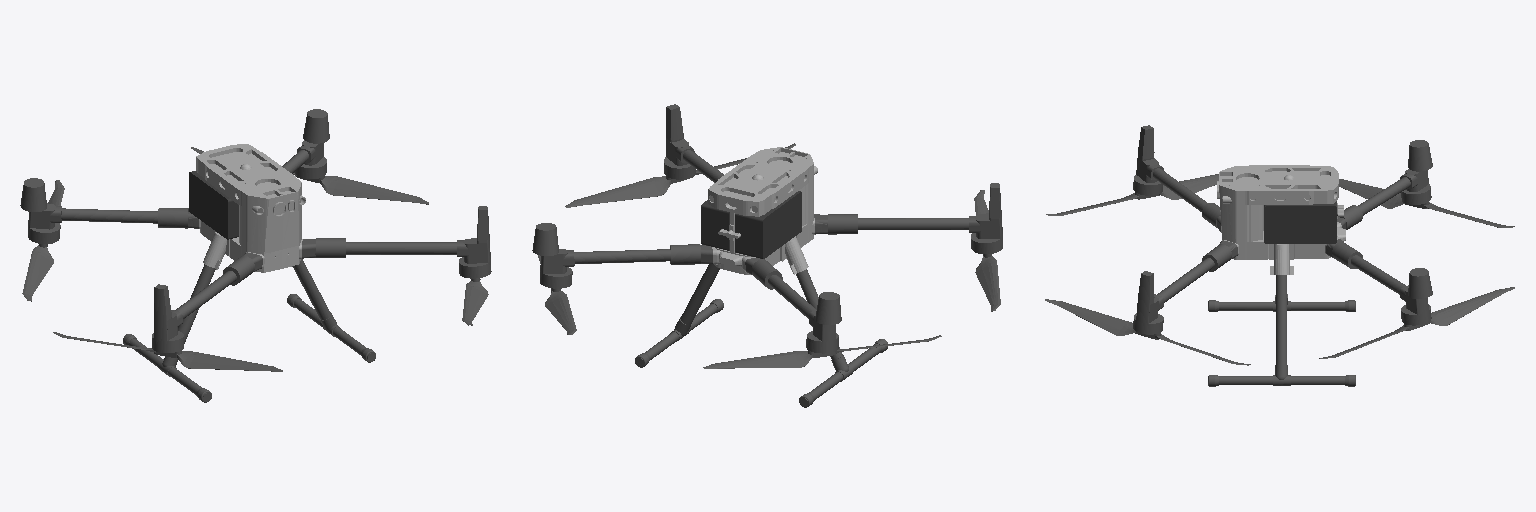
The robot description file, URDF, robot "m350_v1":
<?xml version="1.0" ?>
<!-- Generated using onshape-to-robot -->
<!-- Onshape https://cad.onshape.com/documents/c248f19a0f0b3ba59d40bf96/w/d44af1218bde81f59010375a/e/d2acb386f891232a817fe8a2 -->
<robot name="m350_v1">
  <!-- Link body -->
  <link name="body">
    <inertial>
      <origin xyz="0.00257267 -0.0169103 0.0625409" rpy="0 0 0"/>
      <mass value="3.87918"/>
      <inertia ixx="0.0326721" ixy="5.47272e-08" ixz="-4.24269e-08" iyy="0.0175823" iyz="0.000884552" izz="0.0256938"/>
    </inertial>
    <!-- Part body -->
    <visual>
      <origin xyz="0.00257275 -0.00204705 0.00687887" rpy="0 -0 -2.1684e-19"/>
      <geometry>
        <mesh filename="assets/body.stl"/>
      </geometry>
      <material name="body_material">
        <color rgba="0.701961 0.701961 0.701961 1"/>
      </material>
    </visual>
    <collision>
      <origin xyz="0.00257275 -0.00204705 0.00687887" rpy="0 -0 -2.1684e-19"/>
      <geometry>
        <mesh filename="assets/body.stl"/>
      </geometry>
    </collision>
  </link>
  <!-- Frame front_camera (dummy link + fixed joint) -->
  <link name="front_camera">
    <origin xyz="0 0 0" rpy="0 -0 0"/>
    <inertial>
      <origin xyz="0 0 0" rpy="0 0 0"/>
      <mass value="1e-9"/>
      <inertia ixx="0" ixy="0" ixz="0" iyy="0" iyz="0" izz="0"/>
    </inertial>
  </link>
  <joint name="front_camera_frame" type="fixed">
    <origin xyz="-0.00742147 -0.135524 0.124536" rpy="1.5708 -0 -2.1684e-19"/>
    <parent link="body"/>
    <child link="front_camera"/>
    <axis xyz="0 0 0"/>
  </joint>
  <!-- Link batt_left -->
  <link name="batt_left">
    <inertial>
      <origin xyz="0.0197759 2.64258e-06 -0.0823849" rpy="0 0 0"/>
      <mass value="0.528299"/>
      <inertia ixx="0.00152426" ixy="3.3895e-10" ixz="7.28017e-09" iyy="0.00135282" iyz="1.72826e-08" izz="0.000563146"/>
    </inertial>
    <!-- Part batt_left -->
    <visual>
      <origin xyz="-0.0200738 0.0657542 -0.133261" rpy="1.5708 -2.1225e-12 0"/>
      <geometry>
        <mesh filename="assets/batt_left.stl"/>
      </geometry>
      <material name="batt_left_material">
        <color rgba="0.301961 0.301961 0.301961 1"/>
      </material>
    </visual>
    <collision>
      <origin xyz="-0.0200738 0.0657542 -0.133261" rpy="1.5708 -2.1225e-12 0"/>
      <geometry>
        <mesh filename="assets/batt_left.stl"/>
      </geometry>
    </collision>
  </link>
  <!-- Joint from body to batt_left -->
  <joint name="batt_left" type="fixed">
    <origin xyz="0.0226466 0.131214 0.0726331" rpy="-1.5708 5.87747e-39 -2.1225e-12"/>
    <parent link="body"/>
    <child link="batt_left"/>
    <axis xyz="0 0 1"/>
    <limit effort="10" velocity="10"/>
  </joint>
  <!-- Link batt_right -->
  <link name="batt_right">
    <inertial>
      <origin xyz="-0.0197759 3.25297e-06 -0.0823836" rpy="0 0 0"/>
      <mass value="0.528323"/>
      <inertia ixx="0.00152437" ixy="3.39444e-10" ixz="-7.21661e-09" iyy="0.00135292" iyz="-2.46836e-08" izz="0.000563176"/>
    </inertial>
    <!-- Part batt_right -->
    <visual>
      <origin xyz="0.0200738 0.0657542 -0.133261" rpy="1.5708 -2.1225e-12 0"/>
      <geometry>
        <mesh filename="assets/batt_right.stl"/>
      </geometry>
      <material name="batt_right_material">
        <color rgba="0.301961 0.301961 0.301961 1"/>
      </material>
    </visual>
    <collision>
      <origin xyz="0.0200738 0.0657542 -0.133261" rpy="1.5708 -2.1225e-12 0"/>
      <geometry>
        <mesh filename="assets/batt_right.stl"/>
      </geometry>
    </collision>
  </link>
  <!-- Joint from body to batt_right -->
  <joint name="batt_right" type="fixed">
    <origin xyz="-0.017501 0.131214 0.0726331" rpy="-1.5708 -0 -2.1225e-12"/>
    <parent link="body"/>
    <child link="batt_right"/>
    <axis xyz="0 0 1"/>
    <limit effort="10" velocity="10"/>
  </joint>
  <!-- Link prop_arm_fl -->
  <link name="prop_arm_fl">
    <inertial>
      <origin xyz="0.00406926 -0.00417922 -0.214397" rpy="0 0 0"/>
      <mass value="0.592953"/>
      <inertia ixx="0.0111979" ixy="1.56084e-05" ixz="0.000143294" iyy="0.0109891" iyz="-0.000371307" izz="0.000312746"/>
    </inertial>
    <!-- Part prop_arm_fl -->
    <visual>
      <origin xyz="0.061459 0.00207034 0.104294" rpy="1.56766 1.03205 4.22639e-19"/>
      <geometry>
        <mesh filename="assets/prop_arm_fl.stl"/>
      </geometry>
      <material name="prop_arm_fl_material">
        <color rgba="0.4 0.4 0.4 1"/>
      </material>
    </visual>
    <collision>
      <origin xyz="0.061459 0.00207034 0.104294" rpy="1.56766 1.03205 4.22639e-19"/>
      <geometry>
        <mesh filename="assets/prop_arm_fl.stl"/>
      </geometry>
    </collision>
  </link>
  <!-- Link prop_fl -->
  <link name="prop_fl">
    <inertial>
      <origin xyz="-3.34435e-08 -4.4977e-08 -0.0180893" rpy="0 0 0"/>
      <mass value="0.120786"/>
      <inertia ixx="0.000277984" ixy="-0.00015915" ixz="-5.68271e-11" iyy="0.000145598" iyz="-8.79131e-11" izz="0.00039223"/>
    </inertial>
    <!-- Part prop_fl -->
    <visual>
      <origin xyz="-0.362002 0.281368 0.0563482" rpy="0.0715887 0.0188751 4.3376e-19"/>
      <geometry>
        <mesh filename="assets/prop_fl.stl"/>
      </geometry>
      <material name="prop_fl_material">
        <color rgba="0.4 0.4 0.4 1"/>
      </material>
    </visual>
    <collision>
      <origin xyz="-0.362002 0.281368 0.0563482" rpy="0.0715887 0.0188751 4.3376e-19"/>
      <geometry>
        <mesh filename="assets/prop_fl.stl"/>
      </geometry>
    </collision>
  </link>
  <!-- Joint from prop_arm_fl to prop_fl -->
  <joint name="prop_FL" type="revolute">
    <origin xyz="0.00368875 0.0304324 -0.353141" rpy="1.46468 1.03035 -0.0365883"/>
    <parent link="prop_arm_fl"/>
    <child link="prop_fl"/>
    <axis xyz="0 0 1"/>
    <limit effort="10" velocity="10" lower="-3.141592653589793" upper="3.141592653589793"/>
  </joint>
  <!-- Joint from body to prop_arm_fl -->
  <joint name="arm_FL" type="fixed">
    <origin xyz="0.0605622 -0.108315 0.0086168" rpy="-1.56919 -0.00269164 1.03205"/>
    <parent link="body"/>
    <child link="prop_arm_fl"/>
    <axis xyz="0 0 1"/>
    <limit effort="10" velocity="10"/>
  </joint>
  <!-- Link prop_arm_fr -->
  <link name="prop_arm_fr">
    <inertial>
      <origin xyz="-0.00406893 -0.00417892 -0.214396" rpy="0 0 0"/>
      <mass value="0.592955"/>
      <inertia ixx="0.011198" ixy="-1.56077e-05" ixz="-0.000143289" iyy="0.0109892" iyz="-0.000371302" izz="0.000312747"/>
    </inertial>
    <!-- Part prop_arm_fr -->
    <visual>
      <origin xyz="-0.0614586 0.00207064 0.104294" rpy="1.56766 -1.03205 -4.22639e-19"/>
      <geometry>
        <mesh filename="assets/prop_arm_fr.stl"/>
      </geometry>
      <material name="prop_arm_fr_material">
        <color rgba="0.4 0.4 0.4 1"/>
      </material>
    </visual>
    <collision>
      <origin xyz="-0.0614586 0.00207064 0.104294" rpy="1.56766 -1.03205 -4.22639e-19"/>
      <geometry>
        <mesh filename="assets/prop_arm_fr.stl"/>
      </geometry>
    </collision>
  </link>
  <!-- Link prop_fr -->
  <link name="prop_fr">
    <inertial>
      <origin xyz="3.22875e-08 -4.45539e-08 -0.0180893" rpy="0 0 0"/>
      <mass value="0.120786"/>
      <inertia ixx="0.000277983" ixy="0.000159149" ixz="5.6631e-11" iyy="0.000145597" iyz="-8.73439e-11" izz="0.000392228"/>
    </inertial>
    <!-- Part prop_fr -->
    <visual>
      <origin xyz="0.362002 0.281368 0.0563482" rpy="0.0715887 -0.0188751 -4.34872e-19"/>
      <geometry>
        <mesh filename="assets/prop_fr.stl"/>
      </geometry>
      <material name="prop_fr_material">
        <color rgba="0.4 0.4 0.4 1"/>
      </material>
    </visual>
    <collision>
      <origin xyz="0.362002 0.281368 0.0563482" rpy="0.0715887 -0.0188751 -4.34872e-19"/>
      <geometry>
        <mesh filename="assets/prop_fr.stl"/>
      </geometry>
    </collision>
  </link>
  <!-- Joint from prop_arm_fr to prop_fr -->
  <joint name="prop_FR" type="revolute">
    <origin xyz="-0.0036884 0.0304327 -0.353141" rpy="1.46468 -1.03035 0.0365883"/>
    <parent link="prop_arm_fr"/>
    <child link="prop_fr"/>
    <axis xyz="0 0 1"/>
    <limit effort="10" velocity="10" lower="-3.141592653589793" upper="3.141592653589793"/>
  </joint>
  <!-- Joint from body to prop_arm_fr -->
  <joint name="arm_FR" type="fixed">
    <origin xyz="-0.0554166 -0.108315 0.00861619" rpy="-1.56919 0.00269164 -1.03205"/>
    <parent link="body"/>
    <child link="prop_arm_fr"/>
    <axis xyz="0 0 1"/>
    <limit effort="10" velocity="10"/>
  </joint>
  <!-- Link prop_arm_bl -->
  <link name="prop_arm_bl">
    <inertial>
      <origin xyz="0.00423695 0.00894387 -0.218262" rpy="0 0 0"/>
      <mass value="0.654334"/>
      <inertia ixx="0.0106459" ixy="-2.3351e-05" ixz="0.00015424" iyy="0.0103705" iyz="0.000714105" izz="0.000417197"/>
    </inertial>
    <!-- Part prop_arm_bl -->
    <visual>
      <origin xyz="0.0735221 -0.00208662 0.112761" rpy="-1.56798 0.962238 1.43972e-19"/>
      <geometry>
        <mesh filename="assets/prop_arm_bl.stl"/>
      </geometry>
      <material name="prop_arm_bl_material">
        <color rgba="0.4 0.4 0.4 1"/>
      </material>
    </visual>
    <collision>
      <origin xyz="0.0735221 -0.00208662 0.112761" rpy="-1.56798 0.962238 1.43972e-19"/>
      <geometry>
        <mesh filename="assets/prop_arm_bl.stl"/>
      </geometry>
    </collision>
  </link>
  <!-- Link prop_bl -->
  <link name="prop_bl">
    <inertial>
      <origin xyz="-3.53958e-08 4.22881e-08 -0.0180893" rpy="0 0 0"/>
      <mass value="0.120786"/>
      <inertia ixx="0.000255247" ixy="0.000166798" ixz="-6.26903e-11" iyy="0.000168333" iyz="8.3314e-11" izz="0.000392228"/>
    </inertial>
    <!-- Part prop_bl -->
    <visual>
      <origin xyz="-0.314232 -0.302184 0.0557012" rpy="-0.0727283 0.0138398 1.27212e-19"/>
      <geometry>
        <mesh filename="assets/prop_bl.stl"/>
      </geometry>
      <material name="prop_bl_material">
        <color rgba="0.4 0.4 0.4 1"/>
      </material>
    </visual>
    <collision>
      <origin xyz="-0.314232 -0.302184 0.0557012" rpy="-0.0727283 0.0138398 1.27212e-19"/>
      <geometry>
        <mesh filename="assets/prop_bl.stl"/>
      </geometry>
    </collision>
  </link>
  <!-- Joint from prop_arm_bl to prop_bl -->
  <joint name="prop_BL" type="revolute">
    <origin xyz="0.00318101 -0.0304812 -0.320142" rpy="-1.47549 0.961057 0.0241004"/>
    <parent link="prop_arm_bl"/>
    <child link="prop_bl"/>
    <axis xyz="0 0 1"/>
    <limit effort="10" velocity="10" lower="-3.141592653589793" upper="3.141592653589793"/>
  </joint>
  <!-- Joint from body to prop_arm_bl -->
  <joint name="arm_BL" type="fixed">
    <origin xyz="0.0530589 0.122745 0.00861467" rpy="1.56919 -0.00230901 -0.962236"/>
    <parent link="body"/>
    <child link="prop_arm_bl"/>
    <axis xyz="0 0 1"/>
    <limit effort="10" velocity="10"/>
  </joint>
  <!-- Link prop_arm_br -->
  <link name="prop_arm_br">
    <inertial>
      <origin xyz="-0.00423695 0.0089434 -0.218264" rpy="0 0 0"/>
      <mass value="0.654319"/>
      <inertia ixx="0.0106455" ixy="2.3353e-05" ixz="-0.000154204" iyy="0.0103701" iyz="0.000714086" izz="0.000417186"/>
    </inertial>
    <!-- Part prop_arm_br -->
    <visual>
      <origin xyz="-0.0735218 -0.00208683 0.112761" rpy="-1.56798 -0.962238 4.78437e-19"/>
      <geometry>
        <mesh filename="assets/prop_arm_br.stl"/>
      </geometry>
      <material name="prop_arm_br_material">
        <color rgba="0.4 0.4 0.4 1"/>
      </material>
    </visual>
    <collision>
      <origin xyz="-0.0735218 -0.00208683 0.112761" rpy="-1.56798 -0.962238 4.78437e-19"/>
      <geometry>
        <mesh filename="assets/prop_arm_br.stl"/>
      </geometry>
    </collision>
  </link>
  <!-- Link prop_br -->
  <link name="prop_br">
    <inertial>
      <origin xyz="5.40036e-08 6.7325e-08 -0.0180893" rpy="0 0 0"/>
      <mass value="0.120786"/>
      <inertia ixx="0.000255249" ixy="-0.000166799" ixz="8.78341e-11" iyy="0.000168334" iyz="1.19167e-10" izz="0.000392231"/>
    </inertial>
    <!-- Part prop_br -->
    <visual>
      <origin xyz="0.314232 -0.302184 0.0557012" rpy="-0.0727283 -0.0138398 -1.26064e-19"/>
      <geometry>
        <mesh filename="assets/prop_br.stl"/>
      </geometry>
      <material name="prop_br_material">
        <color rgba="0.4 0.4 0.4 1"/>
      </material>
    </visual>
    <collision>
      <origin xyz="0.314232 -0.302184 0.0557012" rpy="-0.0727283 -0.0138398 -1.26064e-19"/>
      <geometry>
        <mesh filename="assets/prop_br.stl"/>
      </geometry>
    </collision>
  </link>
  <!-- Joint from prop_arm_br to prop_br -->
  <joint name="prop_BR" type="revolute">
    <origin xyz="-0.00318065 -0.0304814 -0.320142" rpy="-1.47549 -0.961057 -0.0241004"/>
    <parent link="prop_arm_br"/>
    <child link="prop_br"/>
    <axis xyz="0 0 1"/>
    <limit effort="10" velocity="10" lower="-3.141592653589793" upper="3.141592653589793"/>
  </joint>
  <!-- Joint from body to prop_arm_br -->
  <joint name="arm_BR" type="fixed">
    <origin xyz="-0.0479131 0.122745 0.00861478" rpy="1.56919 0.00230901 0.962236"/>
    <parent link="body"/>
    <child link="prop_arm_br"/>
    <axis xyz="0 0 1"/>
    <limit effort="10" velocity="10"/>
  </joint>
  <!-- Link leg_l -->
  <link name="leg_l">
    <inertial>
      <origin xyz="9.12275e-06 8.81775e-05 -0.17393" rpy="0 0 0"/>
      <mass value="0.366553"/>
      <inertia ixx="0.00386699" ixy="-2.37996e-08" ixz="1.15906e-07" iyy="0.00207981" iyz="1.91129e-06" izz="0.001813"/>
    </inertial>
    <!-- Part leg_l -->
    <visual>
      <origin xyz="-0.0622521 -0.00919995 0.0831711" rpy="-4.37165e-06 0.453798 -2.01205e-22"/>
      <geometry>
        <mesh filename="assets/leg_l.stl"/>
      </geometry>
      <material name="leg_l_material">
        <color rgba="0.4 0.4 0.4 1"/>
      </material>
    </visual>
    <collision>
      <origin xyz="-0.0622521 -0.00919995 0.0831711" rpy="-4.37165e-06 0.453798 -2.01205e-22"/>
      <geometry>
        <mesh filename="assets/leg_l.stl"/>
      </geometry>
    </collision>
  </link>
  <!-- Joint from body to leg_l -->
  <joint name="leg_L" type="fixed">
    <origin xyz="0.0949562 0.00712378 -0.0405981" rpy="4.86393e-06 -0.453798 -2.13226e-06"/>
    <parent link="body"/>
    <child link="leg_l"/>
    <axis xyz="0 0 1"/>
    <limit effort="10" velocity="10"/>
  </joint>
  <!-- Link leg_r -->
  <link name="leg_r">
    <inertial>
      <origin xyz="-9.22786e-06 8.77989e-05 -0.17393" rpy="0 0 0"/>
      <mass value="0.366552"/>
      <inertia ixx="0.00386701" ixy="2.15077e-08" ixz="-1.18797e-07" iyy="0.00207981" iyz="1.90235e-06" izz="0.00181301"/>
    </inertial>
    <!-- Part leg_r -->
    <visual>
      <origin xyz="0.0622521 -0.00919995 0.0831711" rpy="-4.37165e-06 -0.453798 -3.43986e-23"/>
      <geometry>
        <mesh filename="assets/leg_r.stl"/>
      </geometry>
      <material name="leg_r_material">
        <color rgba="0.4 0.4 0.4 1"/>
      </material>
    </visual>
    <collision>
      <origin xyz="0.0622521 -0.00919995 0.0831711" rpy="-4.37165e-06 -0.453798 -3.43986e-23"/>
      <geometry>
        <mesh filename="assets/leg_r.stl"/>
      </geometry>
    </collision>
  </link>
  <!-- Joint from body to leg_r -->
  <joint name="leg_R" type="fixed">
    <origin xyz="-0.0898092 0.00711765 -0.0405989" rpy="4.86393e-06 0.453798 2.13226e-06"/>
    <parent link="body"/>
    <child link="leg_r"/>
    <axis xyz="0 0 1"/>
    <limit effort="10" velocity="10"/>
  </joint>
</robot>

--- Facts derived from the render (not from the file) ---
The picture shows the robot from 3 angles, left to right: view 1: azimuth 30°, elevation 25°; view 2: azimuth 150°, elevation 25°; view 3: azimuth 270°, elevation 25°; orthographic projection.
Model m350_v1 with 14 links and 13 joints (4 revolute, 9 fixed), rooted at body, posed all joints at 0.
Links seen in each view (by area): view 1: body, prop_arm_fl, prop_arm_br, prop_arm_fr, batt_right, leg_l, prop_fr, prop_bl, leg_r, prop_arm_bl, prop_br, prop_fl; view 2: body, prop_arm_bl, prop_arm_fr, batt_right, prop_arm_br, leg_l, prop_fl, prop_br, prop_arm_fl, leg_r, prop_fr, prop_bl (+1 smaller); view 3: body, batt_left, leg_l, prop_arm_bl, prop_arm_fl, prop_arm_br, prop_arm_fr, prop_fl, prop_bl, prop_br, leg_r, prop_fr.
Link boxes in pixels (x1,y1,x2,y2): body: (196,144,305,272); prop_arm_fl: (302,206,490,268); prop_arm_br: (20,178,198,234); prop_arm_fr: (152,252,262,342); batt_right: (189,171,238,239); leg_l: (287,259,375,362); prop_fr: (53,332,282,371); prop_bl: (191,147,428,204); leg_r: (123,264,215,402); prop_arm_bl: (282,109,329,173); prop_br: (22,180,64,301); prop_fl: (459,263,491,325); body: (708,147,817,274); prop_arm_bl: (532,223,712,278); prop_arm_fr: (814,183,1002,244); batt_right: (735,191,801,258); prop_arm_br: (745,258,841,343); leg_l: (635,264,723,367); prop_fl: (565,143,795,207); prop_br: (703,335,941,368); prop_arm_fl: (664,104,723,182); leg_r: (796,269,887,407); prop_fr: (971,190,1002,311); prop_bl: (538,255,576,334); body: (1217,165,1345,274); batt_left: (1264,201,1337,243); leg_l: (1208,275,1355,386); prop_arm_bl: (1326,239,1432,316); prop_arm_fl: (1134,240,1237,325); prop_arm_br: (1337,140,1432,229); prop_arm_fr: (1134,125,1220,231); prop_fl: (1045,299,1250,365); prop_bl: (1319,287,1514,358); prop_br: (1339,179,1514,227); leg_r: (1208,294,1355,311); prop_fr: (1046,174,1218,215).
Size in the robot's own frame: 1.02 by 1.04 by 0.4227 metres.
13 mesh visuals loaded from 13 distinct referenced files (13 binary STL).